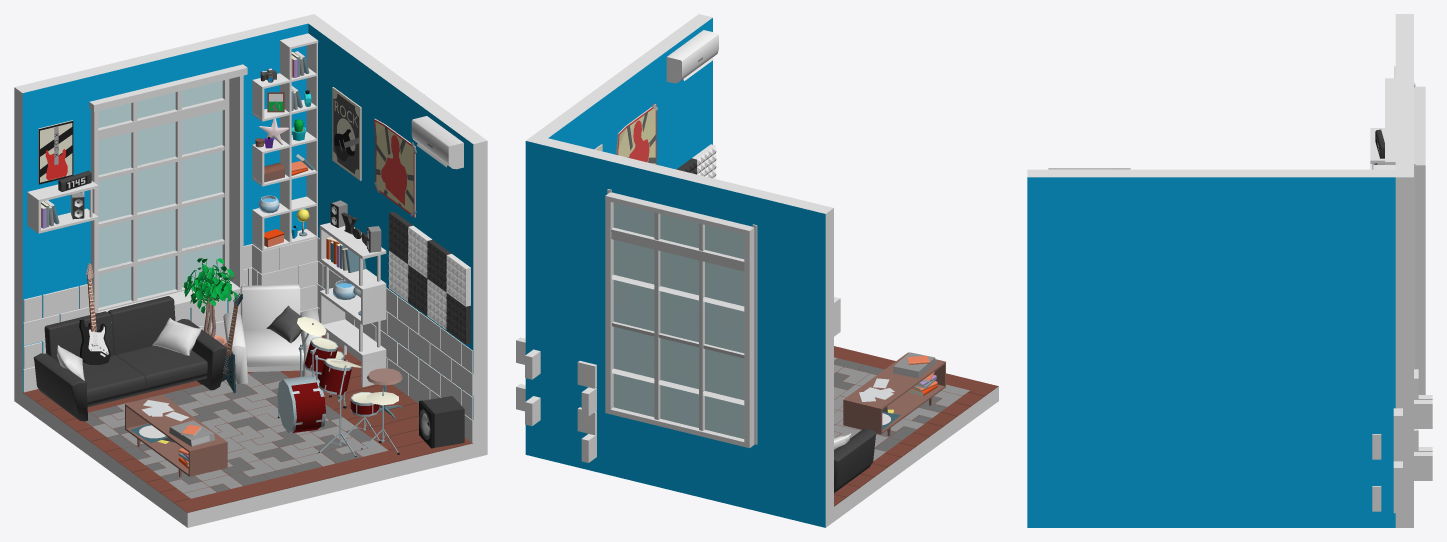
Rendered from room_21.glb.
3 views of the same model, side by side, from view 1: azimuth 30°, elevation 25°; view 2: azimuth 150°, elevation 25°; view 3: azimuth 270°, elevation 25° (orthographic). The views are drawn at different scales.
Parts seen in each view (by area): view 1: window_041.002, Walls_075.006, carpet_010.001, sofa_028.001, Walls_075.007, wall_018.001, Walls_056.006, shelf_059.003, Walls_075.008, picture_060.002, musical_instrument_012.001, armchair_020.001 (+26 smaller); view 2: window_041.002, Walls_075.007, Walls_075.008, Walls_075.006, Walls_075.010, Walls_075.009, carpet_010.001, tv_wall_023.002, Walls_056.006, wall_018.001, sofa_028.001, electronics_027.005 (+5 smaller); view 3: Walls_075.006, Walls_075.008, window_041.002, Walls_075.009, Walls_005.384, Walls_075.007, Walls_005.438, Walls_005.439.
Boxes of the visible parts, <box> form: window_041.002: <box>98,79,229,311</box>; Walls_075.006: <box>308,20,487,457</box>; carpet_010.001: <box>85,371,388,498</box>; sofa_028.001: <box>33,296,226,421</box>; Walls_075.007: <box>14,70,93,406</box>; wall_018.001: <box>105,384,471,512</box>; Walls_056.006: <box>22,351,473,527</box>; shelf_059.003: <box>252,33,318,250</box>; Walls_075.008: <box>229,14,321,268</box>; picture_060.002: <box>388,211,470,344</box>; musical_instrument_012.001: <box>277,316,399,456</box>; armchair_020.001: <box>223,284,321,384</box>; window_041.002: <box>605,192,754,448</box>; Walls_075.007: <box>754,190,833,527</box>; Walls_075.008: <box>525,135,618,475</box>; Walls_075.006: <box>534,14,712,169</box>; Walls_075.010: <box>611,414,754,510</box>; Walls_075.009: <box>611,155,761,226</box>; carpet_010.001: <box>834,357,969,460</box>; tv_wall_023.002: <box>843,352,945,436</box>; Walls_056.006: <box>834,359,998,521</box>; wall_018.001: <box>834,346,997,446</box>; sofa_028.001: <box>834,429,876,492</box>; electronics_027.005: <box>666,30,718,83</box>; Walls_075.006: <box>1027,169,1395,527</box>; Walls_075.008: <box>1395,130,1413,527</box>; window_041.002: <box>1414,86,1425,394</box>; Walls_075.009: <box>1395,53,1413,130</box>; Walls_005.384: <box>1385,78,1395,164</box>; Walls_075.007: <box>1395,14,1413,52</box>; Walls_005.438: <box>1414,452,1432,480</box>; Walls_005.439: <box>1414,400,1432,428</box>.
Bounding box in the file's own units: 4.4 × 4.2 × 4.4.
1 material, 1 textured.
